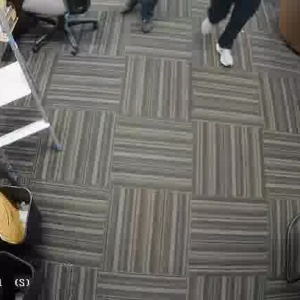person: (203, 0, 260, 67)
